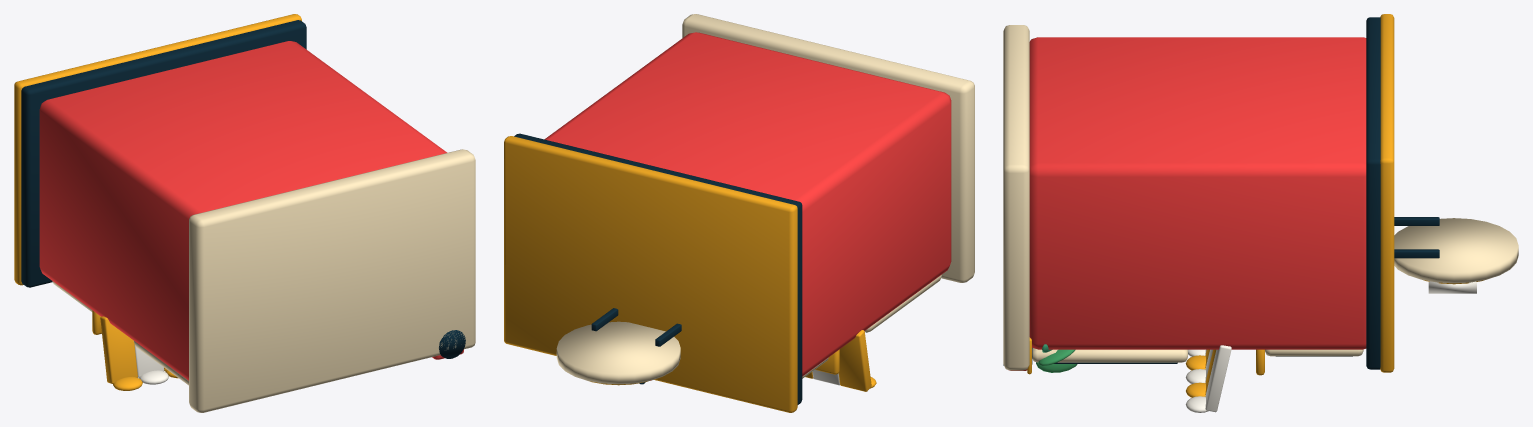
Rendered from ArcadeFacade0.fbx.
3 renders of one model, left to right at view 1: azimuth 30°, elevation 25°; view 2: azimuth 150°, elevation 25°; view 3: azimuth 270°, elevation 25°, orthographic. The views are drawn at different scales.
Visible parts, largest first — view 1: ArcadeFacade0; view 2: ArcadeFacade0; view 3: ArcadeFacade0.
Boxes of the visible parts, left/top/right/bottom form: ArcadeFacade0: left=14, top=14, right=475, bottom=412; ArcadeFacade0: left=504, top=14, right=974, bottom=412; ArcadeFacade0: left=1003, top=14, right=1518, bottom=412.
Bounding box in the file's own units: 2.92 × 2.42 × 4.31.
